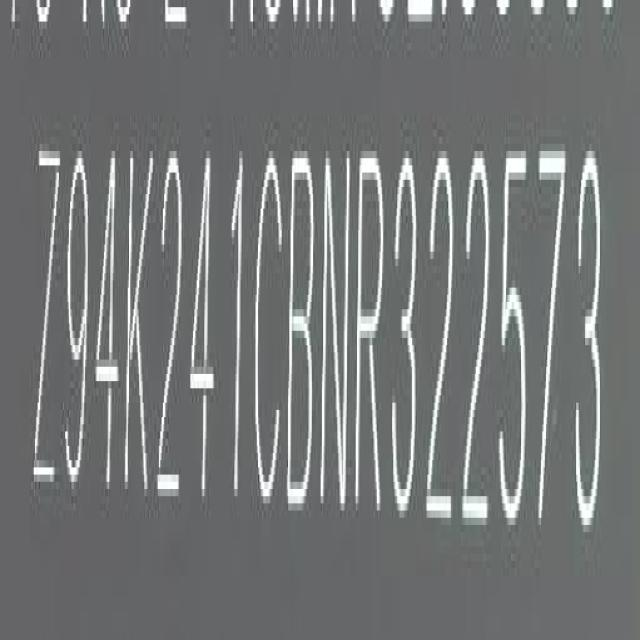1: (225, 148, 247, 510)
2: (460, 148, 491, 536), (427, 146, 456, 533), (155, 143, 184, 510)
3: (574, 149, 608, 535), (394, 146, 424, 522)
4: (192, 146, 220, 510), (97, 144, 122, 502)
5: (500, 143, 531, 536)
7: (538, 142, 570, 541)
9: (64, 142, 90, 505)
B: (286, 144, 315, 513)
C: (254, 149, 285, 508)
K: (124, 140, 154, 509)
N: (321, 146, 350, 514)
R: (354, 148, 387, 517)
Z: (35, 140, 62, 506)
